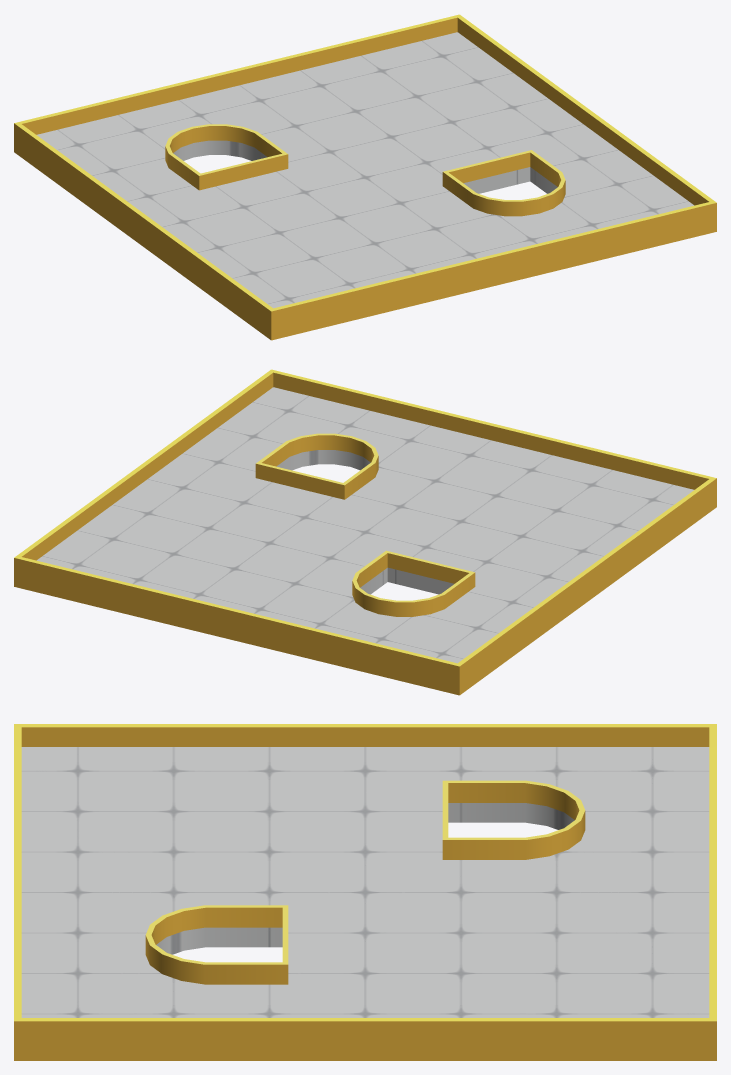
The model's file is battle_stage_19.fbx.
The picture shows the model from 3 angles, top to bottom: view 1: azimuth 30°, elevation 25°; view 2: azimuth 150°, elevation 25°; view 3: azimuth 270°, elevation 25°; orthographic projection. The views are drawn at different scales.
Visible parts, largest first — view 1: Cube, Cube.012, Cube.011; view 2: Cube, Cube.012, Cube.011; view 3: Cube, Cube.012, Cube.011.
Part boxes in pixels (left/top/right/bottom): Cube: left=37, top=32, right=694, bottom=308; Cube.012: left=14, top=14, right=716, bottom=340; Cube.011: left=165, top=124, right=565, bottom=216; Cube: left=36, top=387, right=693, bottom=663; Cube.012: left=14, top=369, right=716, bottom=695; Cube.011: left=255, top=433, right=475, bottom=616; Cube: left=21, top=747, right=709, bottom=1017; Cube.012: left=14, top=724, right=716, bottom=1060; Cube.011: left=145, top=780, right=585, bottom=984.
Size of the model in its own units: 6438 by 400 by 6438.
